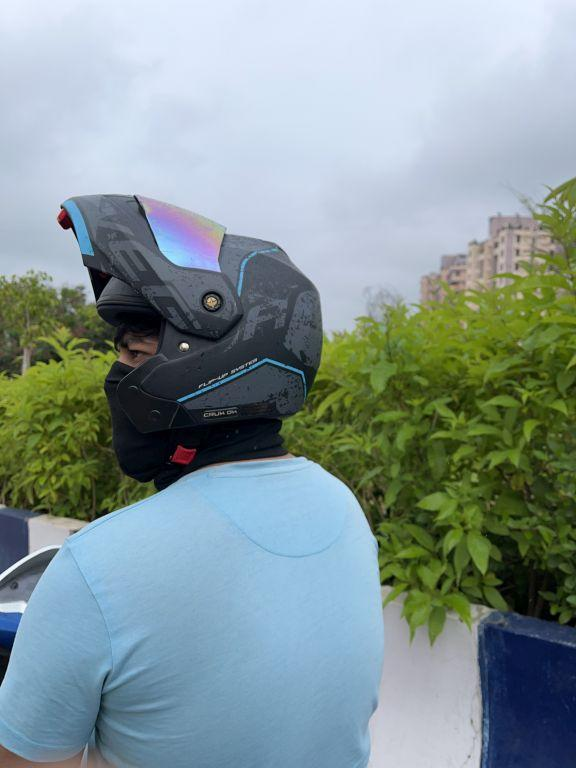helmet: (50, 180, 329, 477)
